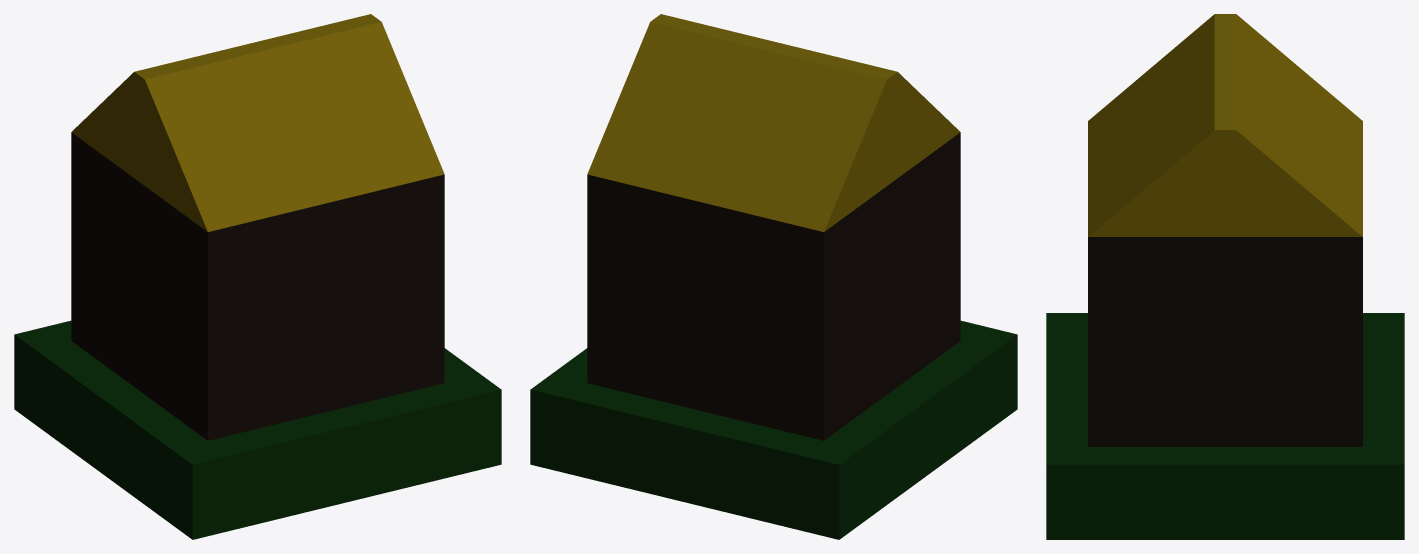
Rendered from house_tile.obj.
3 views of the same model, side by side, from view 1: azimuth 30°, elevation 25°; view 2: azimuth 150°, elevation 25°; view 3: azimuth 270°, elevation 25° (orthographic).
Visible parts, largest first — view 1: Cube.003; view 2: Cube.003; view 3: Cube.003.
Part boxes in pixels (box(x1,y1,x2,y2)): Cube.003: box(14, 14, 501, 539); Cube.003: box(530, 14, 1017, 539); Cube.003: box(1046, 14, 1404, 539).
Size of the model in its own units: 2 by 2.42 by 2.
